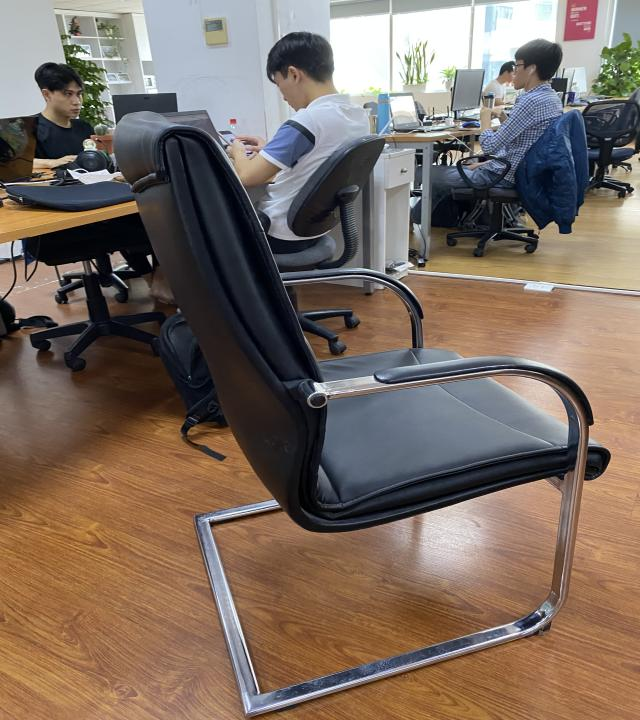SS_03: (112, 111, 612, 719)
